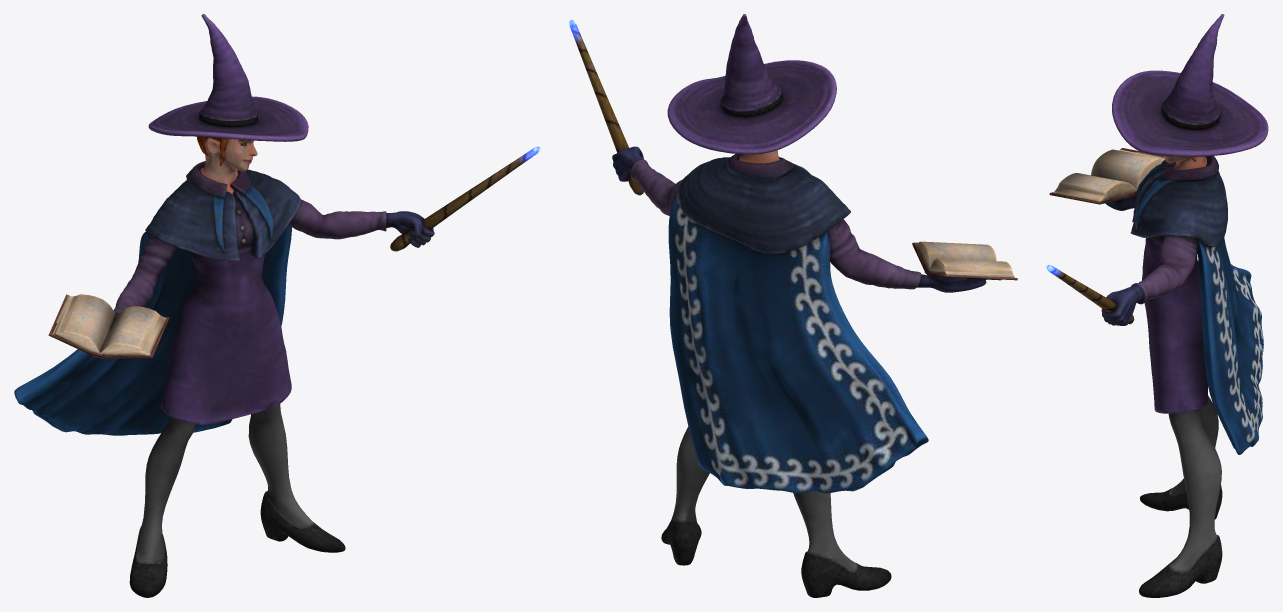
File: MZ4250 - Human Female Illusion Wizard_3.glb
3 views of the same model, side by side, from view 1: azimuth 30°, elevation 25°; view 2: azimuth 150°, elevation 25°; view 3: azimuth 270°, elevation 25° (orthographic). The views are drawn at different scales.
Visible parts, largest first — view 1: Body.002; view 2: Body.002; view 3: Body.002.
Boxes of the visible parts, x1,y1,x2,y2 form: Body.002: (14, 14, 540, 597); Body.002: (569, 14, 1017, 597); Body.002: (1046, 14, 1268, 597).
Bounding box in the file's own units: 0.9377 × 1.05 × 0.3956.
1 material, 1 textured.
